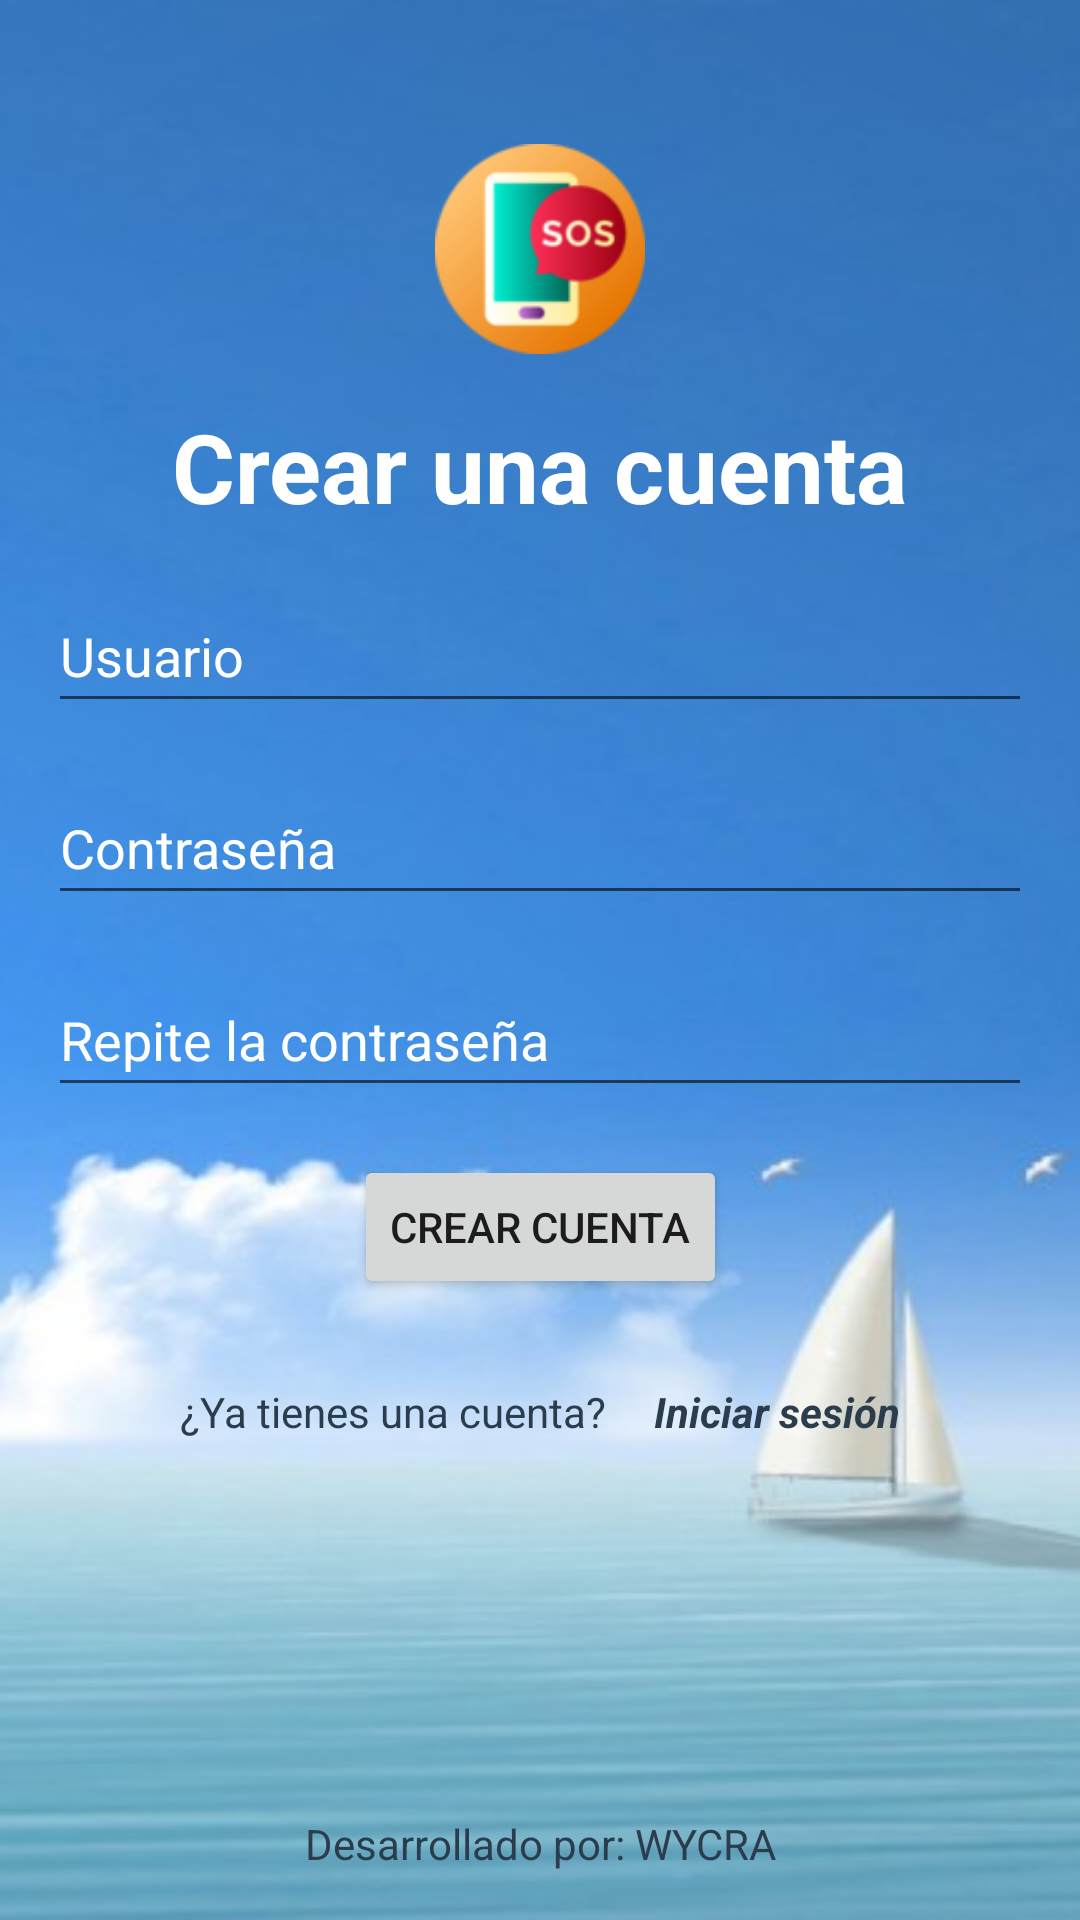

Named icons in this screenshot (1080 × 1920) and their bounding boxes, (x1, y1, x2, y2):
sosfinder: (435, 144, 645, 354)
